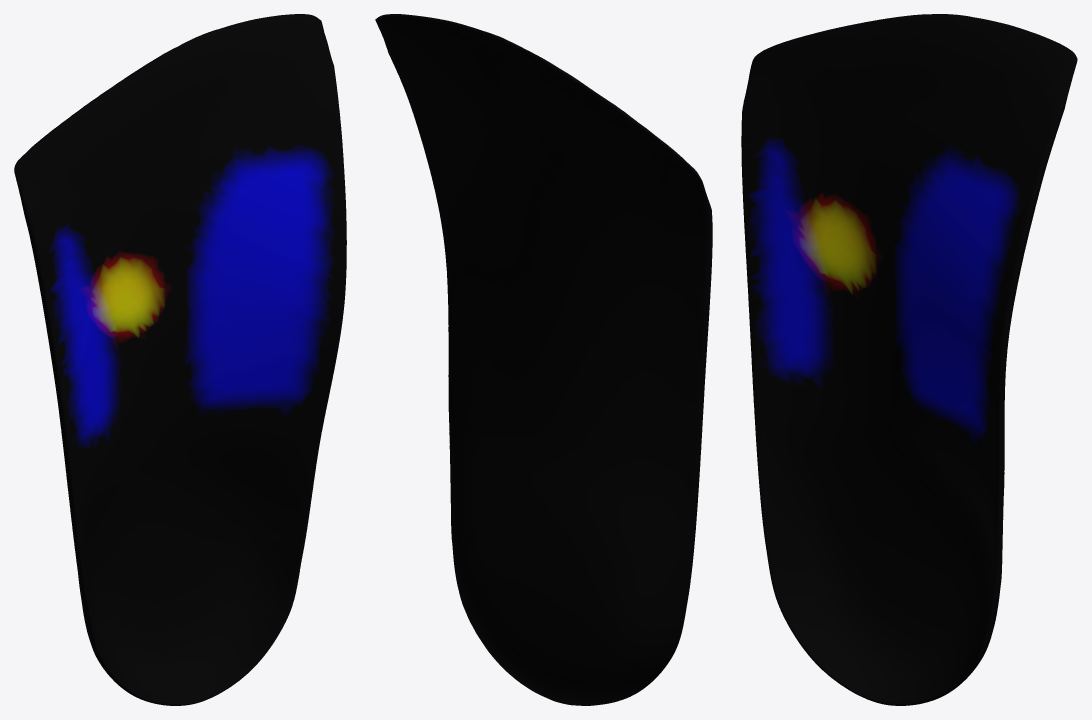
File: CPO-307216_LEFT.glb
The picture shows the model from 3 angles, left to right: view 1: azimuth 30°, elevation 25°; view 2: azimuth 150°, elevation 25°; view 3: azimuth 330°, elevation 25°; orthographic projection. The views are drawn at different scales.
Visible parts, largest first — view 1: geometry_0; view 2: geometry_0; view 3: geometry_0.
Part boxes in pixels (bbox=[...]): geometry_0: bbox=[14, 14, 346, 705]; geometry_0: bbox=[375, 14, 712, 705]; geometry_0: bbox=[741, 14, 1077, 705].
Bounding box in the file's own units: 102 × 204 × 28.62.
